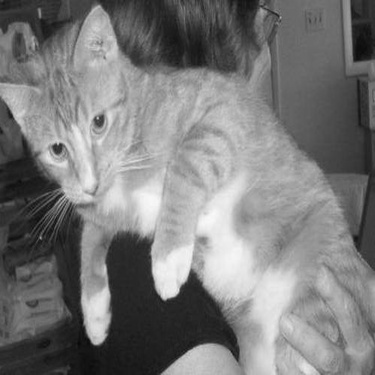cat: (2, 11, 352, 364)
